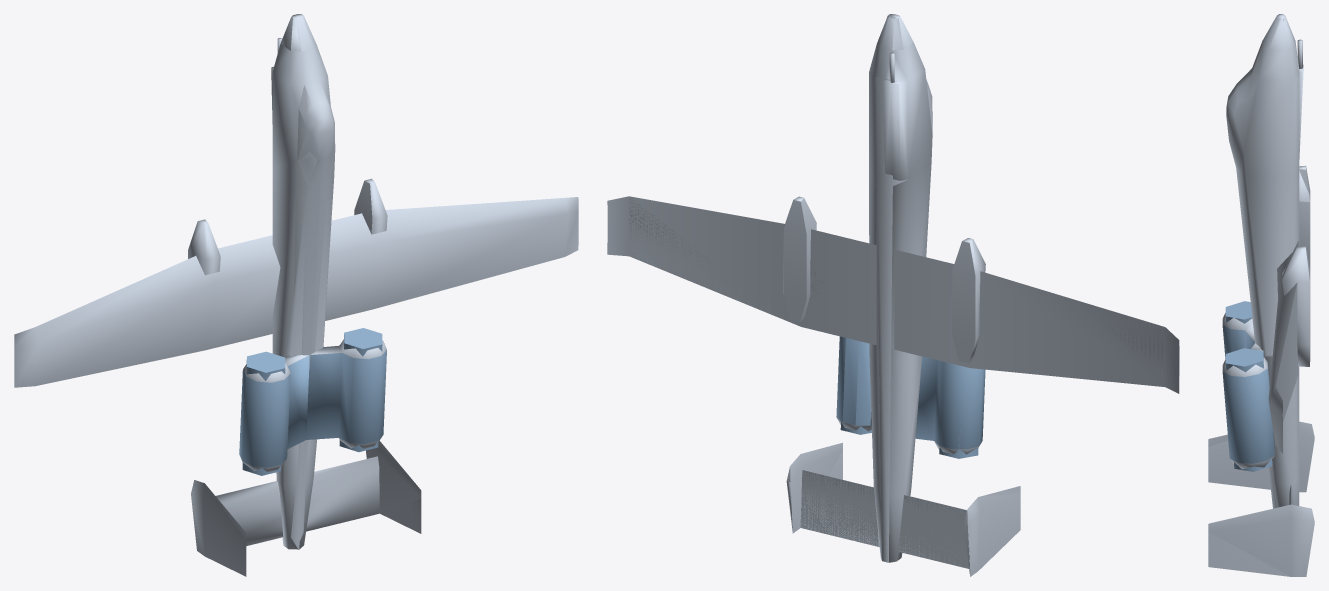
3 renders of one model, left to right at view 1: azimuth 30°, elevation 25°; view 2: azimuth 150°, elevation 25°; view 3: azimuth 270°, elevation 25°, orthographic. The views are drawn at different scales.
Parts seen in each view (by area): view 1: db_a10_newLOD_LOD child0_wing1_p13754_Geometry_0.005, db_a10_newLOD_LOD child0_body_pl1_Geometry_0.005, db_a10_newLOD_LOD child0_engine1_p13705_Geometry_0.005, db_a10_newLOD_LOD child0_tplane_p13786_Geometry_0.005, db_a10_newLOD_LOD child0_body2_p13852_Geometry_0.005, db_a10_newLOD_LOD child0_emount_p13698_Geometry_0.005, db_a10_newLOD_LOD child0_rud1_p13791_Geometry_0.005, db_a10_newLOD_LOD child0_cpit_p14039_Geometry_0.005, db_a10_newLOD_LOD child0_tail_p13938_Geometry_0.005, db_a10_newLOD_LOD child0_eng2_p13836_Geometry_0.005, db_a10_newLOD_LOD child0_pod1_p13772_Geometry_0.005, db_a10_newLOD_LOD child0_cowl1_p13734_Geometry_0.005; view 2: db_a10_newLOD_LOD child0_wing1_p13754_Geometry_0.005, db_a10_newLOD_LOD child0_wing2_p13901_Geometry_0.005, db_a10_newLOD_LOD child0_body_pl1_Geometry_0.005, db_a10_newLOD_LOD child0_hstab_p13933_Geometry_0.005, db_a10_newLOD_LOD child0_engine1_p13705_Geometry_0.005, db_a10_newLOD_LOD child0_body2_p13852_Geometry_0.005, db_a10_newLOD_LOD child0_o2599_p14198_Geometry_0.005, db_a10_newLOD_LOD child0_pod2_p13919_Geometry_0.005, db_a10_newLOD_LOD child0_rud1_p13791_Geometry_0.005, db_a10_newLOD_LOD child0_o2601_p14261_Geometry_0.005, db_a10_newLOD_LOD child0_tail_p13938_Geometry_0.005, db_a10_newLOD_LOD child0_emount_p13698_Geometry_0.005 (+1 smaller); view 3: db_a10_newLOD_LOD child0_body_pl1_Geometry_0.005, db_a10_newLOD_LOD child0_rud1_p13791_Geometry_0.005, db_a10_newLOD_LOD child0_engine1_p13705_Geometry_0.005, db_a10_newLOD_LOD child0_tail_p13938_Geometry_0.005, db_a10_newLOD_LOD child0_pod1_p13772_Geometry_0.005, db_a10_newLOD_LOD child0_wing1_p13754_Geometry_0.005, db_a10_newLOD_LOD child0_body2_p13852_Geometry_0.005, db_a10_newLOD_LOD child0_cpit_p14039_Geometry_0.005, db_a10_newLOD_LOD child0_wing2_p13901_Geometry_0.005, db_a10_newLOD_LOD child0_eng2_p13836_Geometry_0.005, db_a10_newLOD_LOD child0_pod2_p13919_Geometry_0.005, db_a10_newLOD_LOD child0_cowl1_p13734_Geometry_0.005 (+1 smaller).
Part boxes in pixels (x1,y1,x2,y2): db_a10_newLOD_LOD child0_wing1_p13754_Geometry_0.005: (14, 197, 578, 387); db_a10_newLOD_LOD child0_body_pl1_Geometry_0.005: (271, 14, 335, 549); db_a10_newLOD_LOD child0_engine1_p13705_Geometry_0.005: (239, 350, 386, 467); db_a10_newLOD_LOD child0_tplane_p13786_Geometry_0.005: (216, 456, 379, 545); db_a10_newLOD_LOD child0_body2_p13852_Geometry_0.005: (291, 185, 325, 549); db_a10_newLOD_LOD child0_emount_p13698_Geometry_0.005: (287, 353, 342, 449); db_a10_newLOD_LOD child0_rud1_p13791_Geometry_0.005: (191, 480, 420, 576); db_a10_newLOD_LOD child0_cpit_p14039_Geometry_0.005: (297, 81, 335, 184); db_a10_newLOD_LOD child0_tail_p13938_Geometry_0.005: (194, 440, 421, 533); db_a10_newLOD_LOD child0_eng2_p13836_Geometry_0.005: (242, 328, 382, 475); db_a10_newLOD_LOD child0_pod1_p13772_Geometry_0.005: (188, 178, 387, 275); db_a10_newLOD_LOD child0_cowl1_p13734_Geometry_0.005: (243, 339, 386, 472); db_a10_newLOD_LOD child0_wing1_p13754_Geometry_0.005: (609, 196, 1179, 393); db_a10_newLOD_LOD child0_wing2_p13901_Geometry_0.005: (607, 196, 1179, 393); db_a10_newLOD_LOD child0_body_pl1_Geometry_0.005: (869, 14, 932, 562); db_a10_newLOD_LOD child0_hstab_p13933_Geometry_0.005: (800, 470, 969, 568); db_a10_newLOD_LOD child0_engine1_p13705_Geometry_0.005: (836, 336, 985, 449); db_a10_newLOD_LOD child0_body2_p13852_Geometry_0.005: (869, 16, 907, 562); db_a10_newLOD_LOD child0_o2599_p14198_Geometry_0.005: (629, 197, 1163, 376); db_a10_newLOD_LOD child0_pod2_p13919_Geometry_0.005: (783, 198, 975, 363); db_a10_newLOD_LOD child0_rud1_p13791_Geometry_0.005: (786, 481, 1020, 576); db_a10_newLOD_LOD child0_o2601_p14261_Geometry_0.005: (801, 471, 967, 567); db_a10_newLOD_LOD child0_tail_p13938_Geometry_0.005: (787, 442, 1019, 576); db_a10_newLOD_LOD child0_emount_p13698_Geometry_0.005: (870, 356, 937, 440); db_a10_newLOD_LOD child0_body_pl1_Geometry_0.005: (1236, 14, 1303, 507); db_a10_newLOD_LOD child0_rud1_p13791_Geometry_0.005: (1208, 439, 1314, 576); db_a10_newLOD_LOD child0_engine1_p13705_Geometry_0.005: (1222, 325, 1274, 463); db_a10_newLOD_LOD child0_tail_p13938_Geometry_0.005: (1208, 421, 1314, 523); db_a10_newLOD_LOD child0_pod1_p13772_Geometry_0.005: (1282, 165, 1309, 366); db_a10_newLOD_LOD child0_wing1_p13754_Geometry_0.005: (1268, 241, 1298, 453); db_a10_newLOD_LOD child0_body2_p13852_Geometry_0.005: (1237, 18, 1299, 508); db_a10_newLOD_LOD child0_cpit_p14039_Geometry_0.005: (1226, 68, 1251, 172); db_a10_newLOD_LOD child0_wing2_p13901_Geometry_0.005: (1275, 285, 1297, 446); db_a10_newLOD_LOD child0_eng2_p13836_Geometry_0.005: (1225, 301, 1272, 471); db_a10_newLOD_LOD child0_pod2_p13919_Geometry_0.005: (1299, 166, 1310, 361); db_a10_newLOD_LOD child0_cowl1_p13734_Geometry_0.005: (1222, 313, 1274, 469).
Bounding box in the file's own units: 18 × 16.21 × 2.97.
